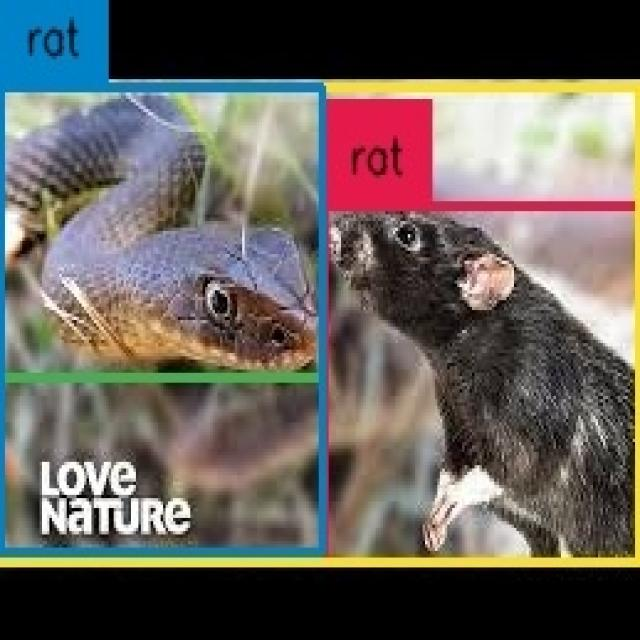rat: (0, 88, 640, 562), (0, 88, 321, 552), (326, 205, 640, 564), (0, 87, 321, 378)
